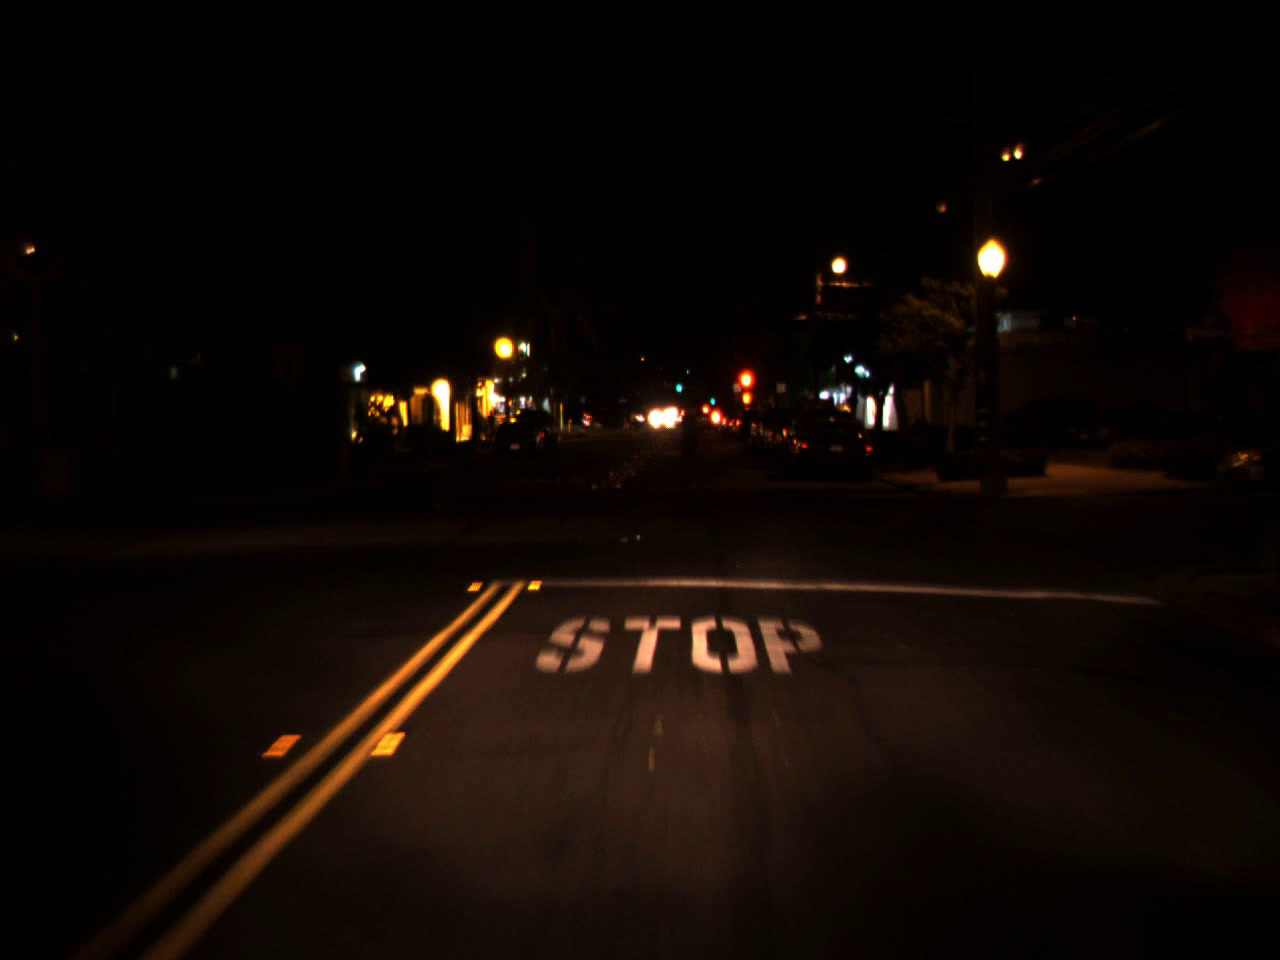go: (673, 376, 683, 394), (709, 391, 716, 406)
stop: (734, 365, 758, 419)
